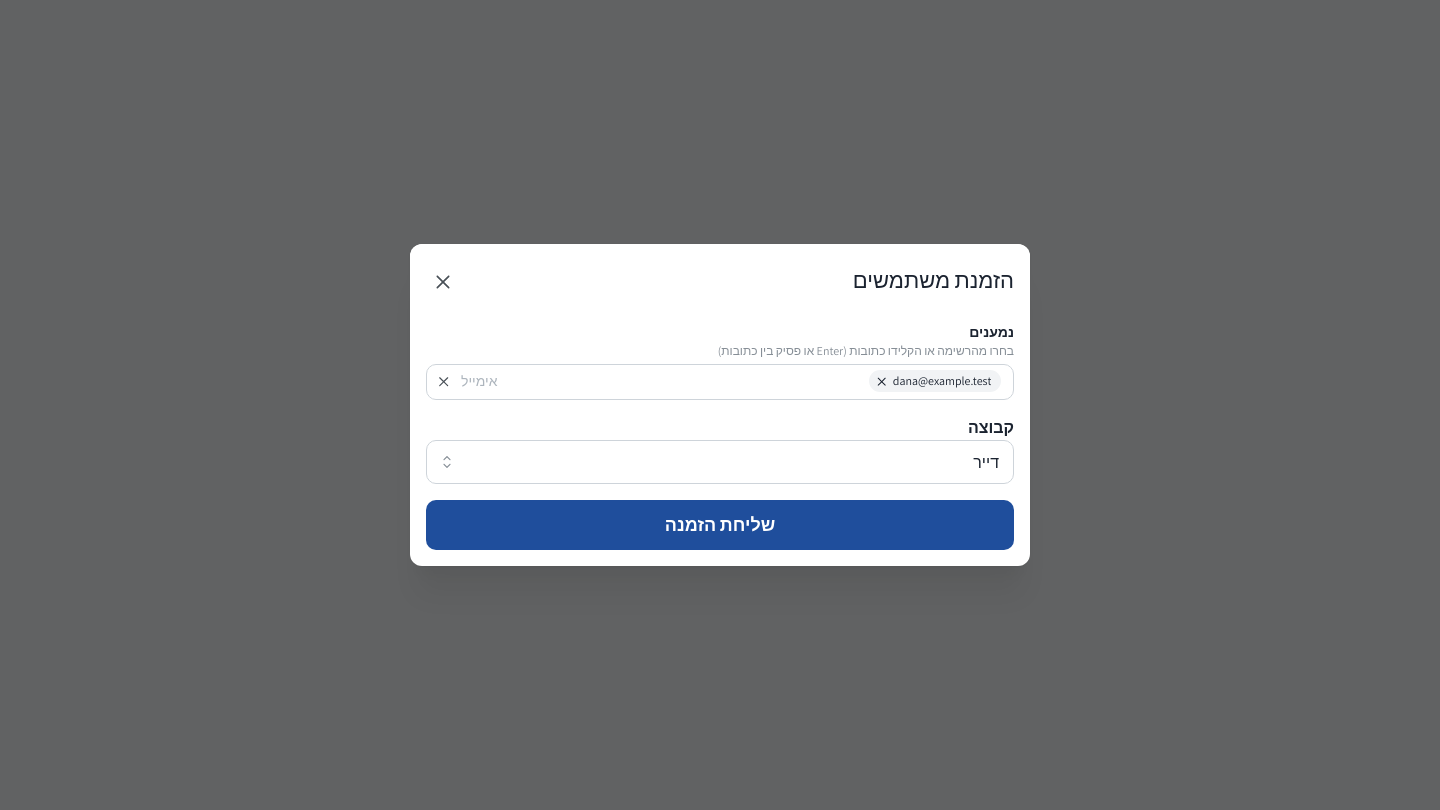
Test: InviteDialog › a skipped recipient shows its reason once
The image size is (1440, 810).
Click the button "שליחת הזמנה" at (720, 526), box [426,500,1014,550]
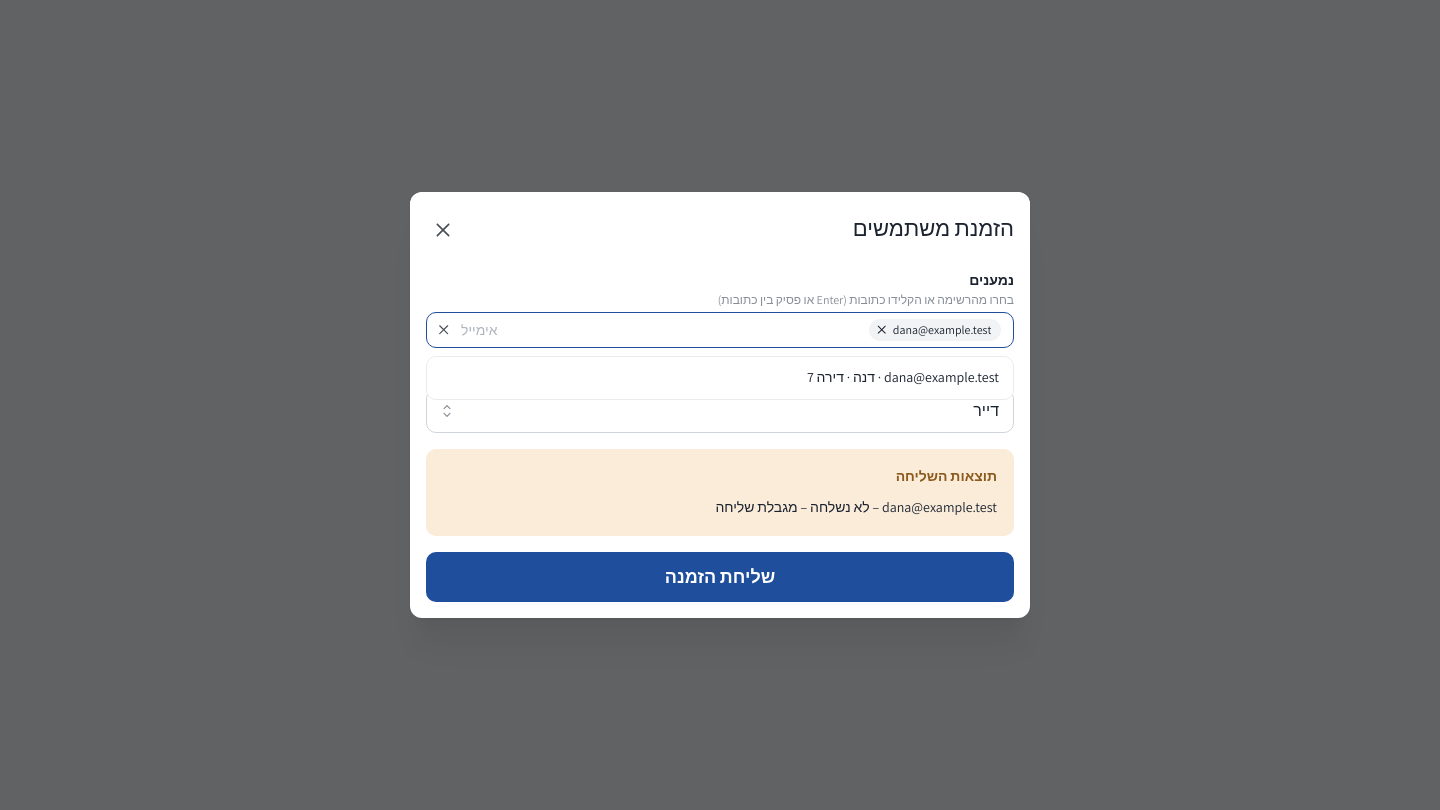
Expected: the text "תוצאות השליחה" does not show "("
Expected: the text "תוצאות השליחה" shows "dana@example.test – לא נשלחה – מגבלת שליחה", [426,449,1014,536]
